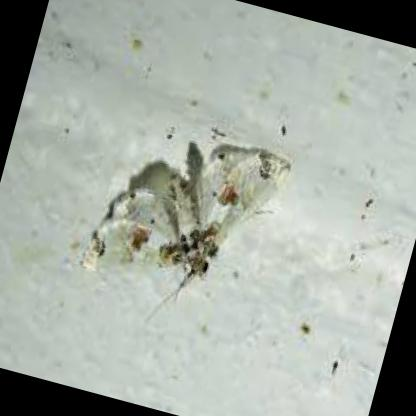leucinodes: (81, 150, 291, 273)
